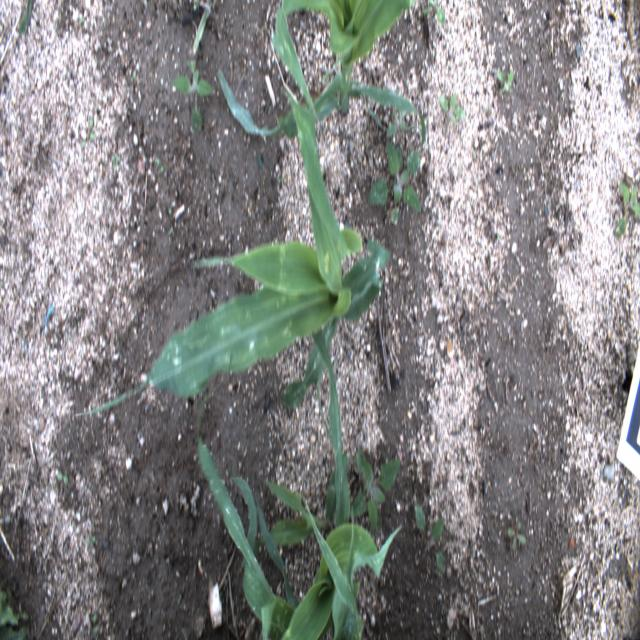crop: (75, 85, 388, 417), (196, 328, 405, 639), (216, 1, 425, 145)
weed: (366, 123, 422, 225), (352, 437, 403, 535), (174, 58, 216, 134), (414, 501, 450, 572), (0, 588, 32, 639), (616, 175, 636, 236), (190, 0, 213, 51), (438, 89, 464, 130), (505, 519, 528, 554), (494, 64, 512, 99), (17, 3, 34, 40), (77, 116, 94, 152), (54, 454, 70, 486), (421, 1, 445, 22), (85, 610, 99, 637), (154, 152, 165, 178), (84, 530, 98, 550), (110, 150, 121, 170), (129, 67, 138, 86), (77, 12, 86, 29), (494, 229, 503, 245)
